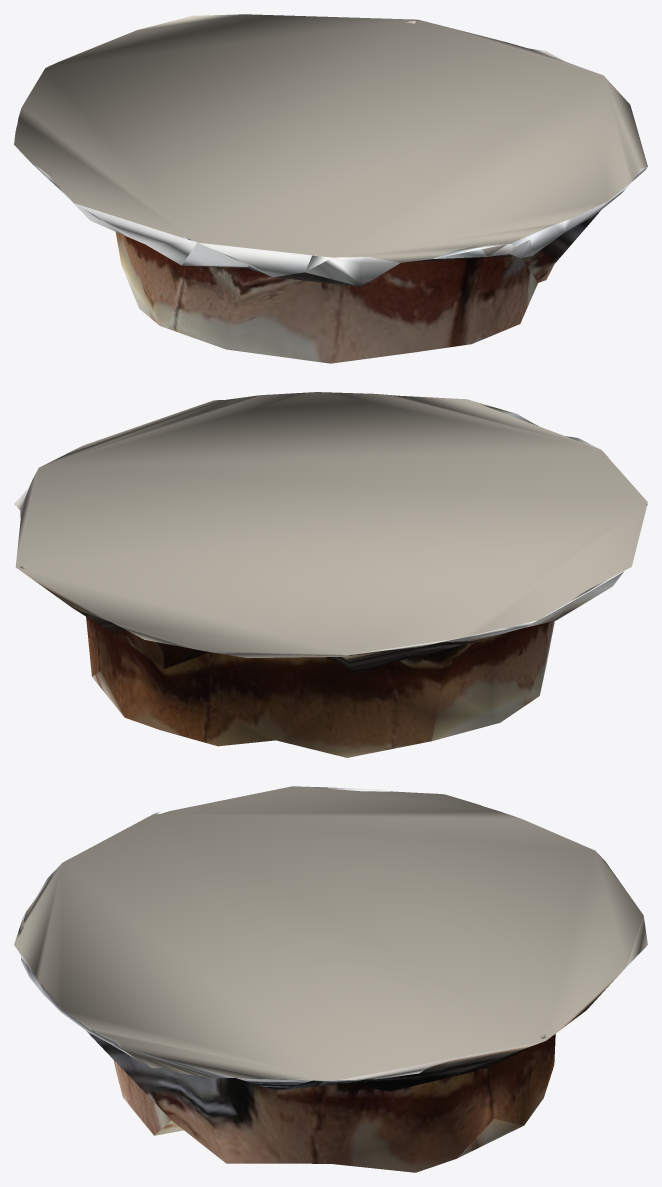
Rendered from cake_298.obj.
3 views of the same model, one above another, from view 1: azimuth 30°, elevation 25°; view 2: azimuth 150°, elevation 25°; view 3: azimuth 270°, elevation 25° (orthographic). The views are drawn at different scales.
Size of the model in its own units: 0.1787 by 0.0507 by 0.1765.
Materials: 1 (1 with a texture image).
